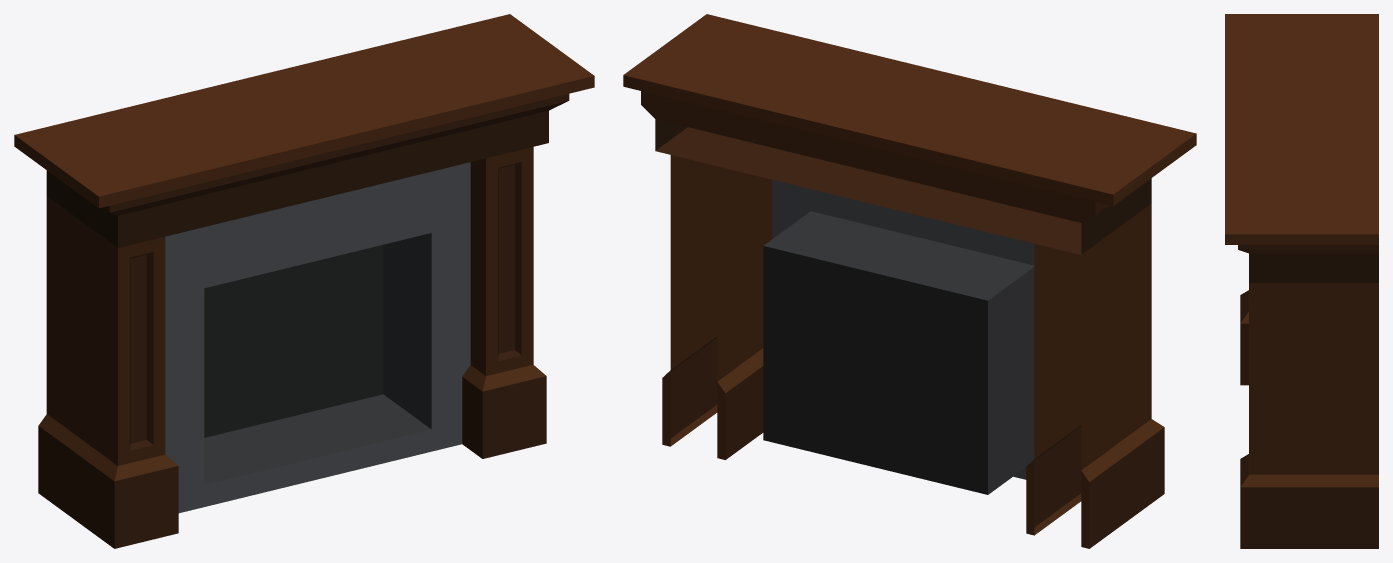
File: SM_FireplaceBrownGrey_01.fbx
The picture shows the model from 3 angles, left to right: view 1: azimuth 30°, elevation 25°; view 2: azimuth 150°, elevation 25°; view 3: azimuth 270°, elevation 25°; orthographic projection. The views are drawn at different scales.
Visible parts, largest first — view 1: SM_FireplaceBrownGrey_01; view 2: SM_FireplaceBrownGrey_01; view 3: SM_FireplaceBrownGrey_01.
Part boxes in pixels (<box>): SM_FireplaceBrownGrey_01: <box>14,14,594,548</box>; SM_FireplaceBrownGrey_01: <box>623,14,1196,548</box>; SM_FireplaceBrownGrey_01: <box>1225,14,1378,548</box>.
Size of the model in its own units: 190 by 134 by 56.23.
